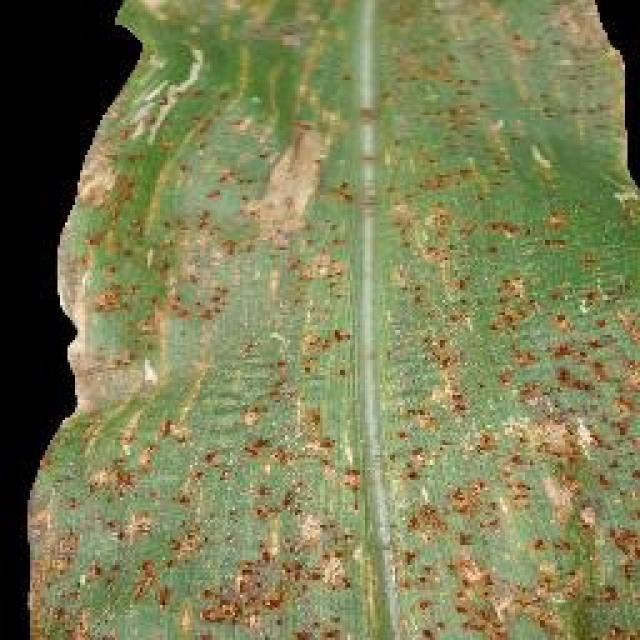Corn Common Rust: (98, 138, 560, 557)
